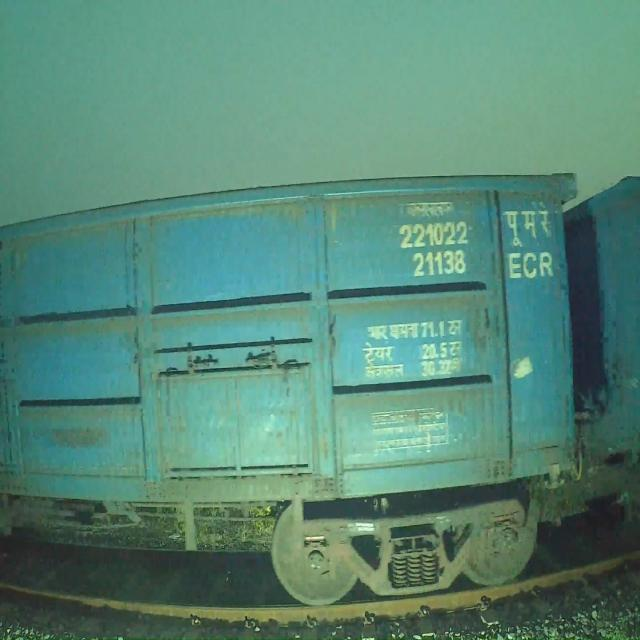WAgon-uic: (0, 171, 580, 604), (489, 177, 640, 495)
uic: (395, 220, 470, 278)
